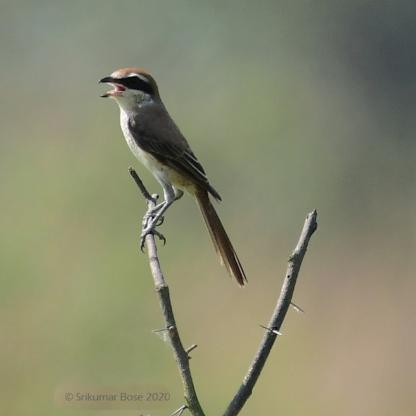Burung: (96, 66, 256, 290)
